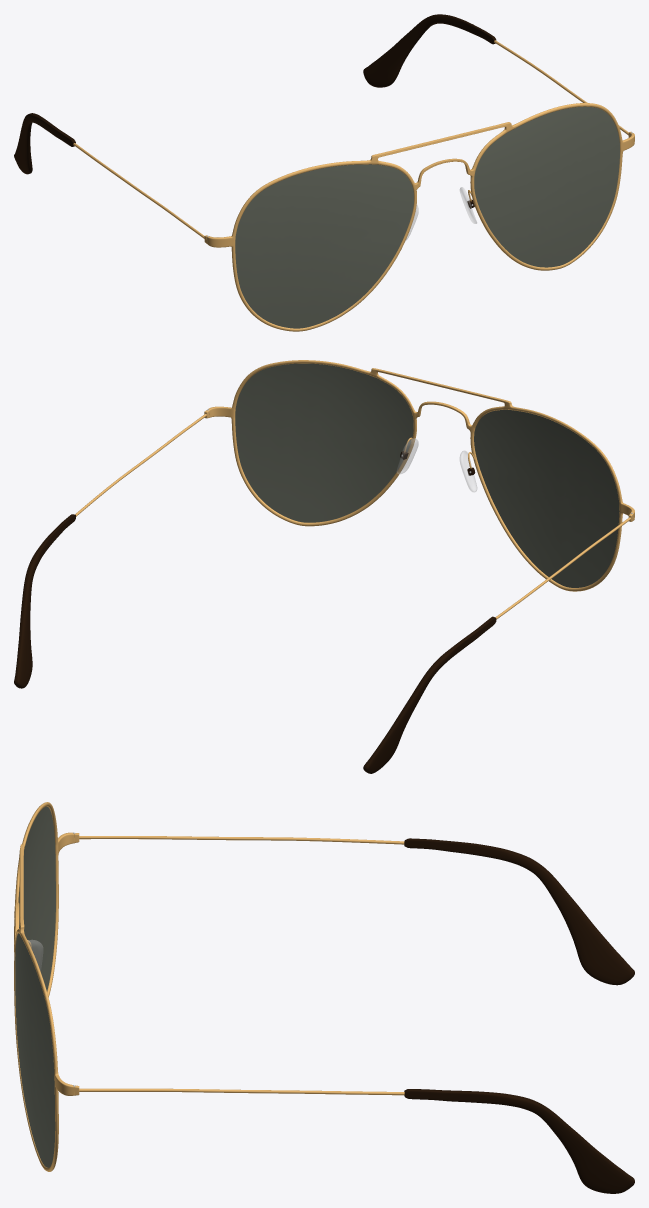
The picture shows the model from 3 angles, top to bottom: view 1: azimuth 30°, elevation 25°; view 2: azimuth 150°, elevation 25°; view 3: azimuth 270°, elevation 25°; orthographic projection. The views are drawn at different scales.
Parts seen in each view (by area): view 1: Aviators; view 2: Aviators; view 3: Aviators.
Part boxes in pixels (x1=…): Aviators: x1=14, y1=14, x2=634, y2=331; Aviators: x1=14, y1=360, x2=634, y2=773; Aviators: x1=14, y1=802, x2=634, y2=1193.
Bounding box in the file's own units: 13.96 × 5.22 × 14.4.
